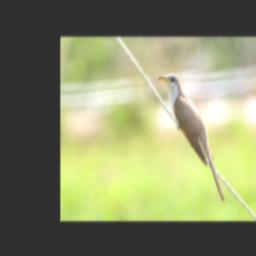Cuckoo: (157, 73, 227, 206)
